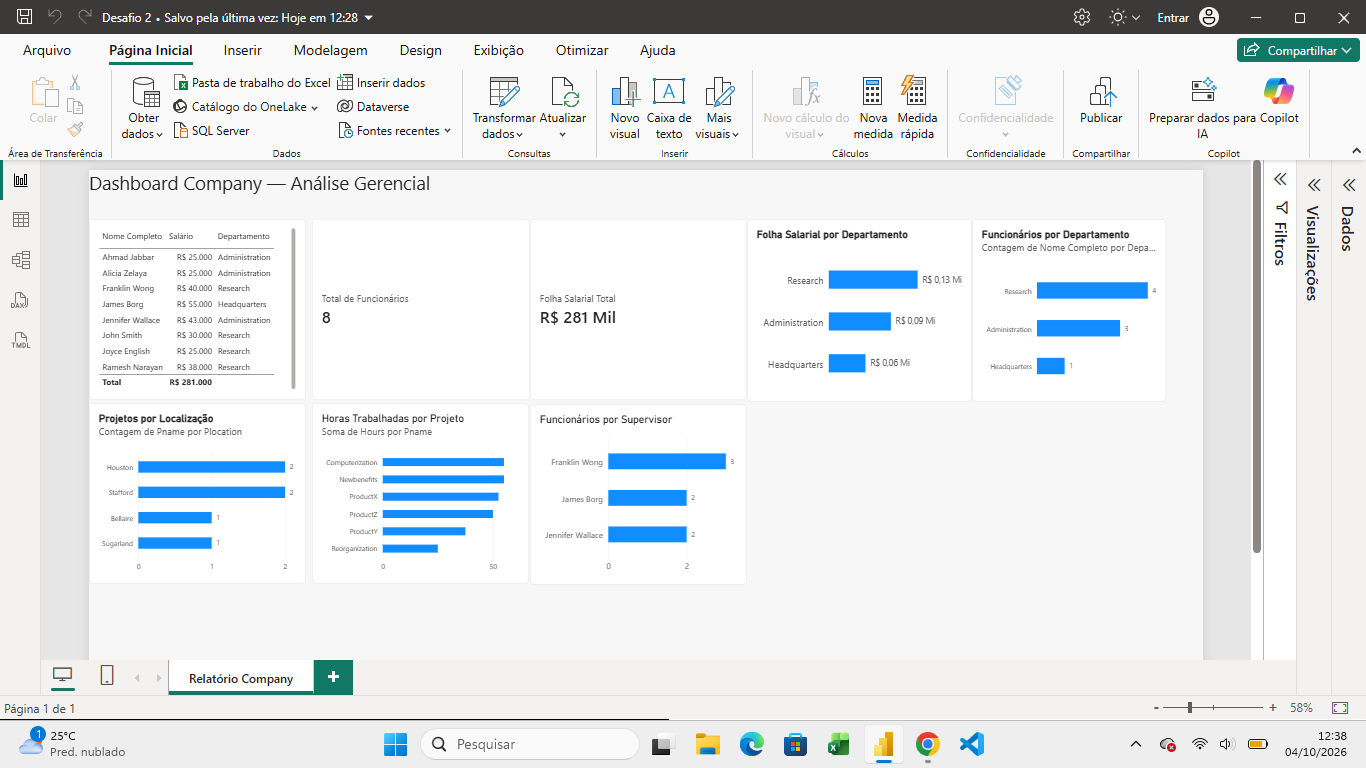

Layout of this report page (visuals, bound fields, positions):
{"tool":"powerbi","page":{"name":"Relatório Company","canvas":[1920,1080],"ordinal":0},"visuals":[{"type":"tableEx","fields":{"Values":["Employee.Nome Completo","Sum(Employee.Salary)","Employee.Department"]},"box":[0,85,374.5,311.7],"z":0},{"type":"cardVisual","fields":{"Data":["Sum(Employee.Salary)"]},"box":[760,85,374,312],"z":1},{"type":"cardVisual","fields":{"Data":["CountNonNull(Employee.Nome Completo)"]},"box":[385,85,375,312.5],"z":2},{"type":"clusteredBarChart","title":"Folha Salarial por Departamento","fields":{"Category":["Employee.Department"],"Y":["Sum(Employee.Salary)"]},"box":[1135,85,387.5,315],"z":3},{"type":"clusteredBarChart","title":"Funcionários por Departamento","fields":{"Category":["Employee.Department"],"Y":["CountNonNull(Employee.Nome Completo)"]},"box":[1522.5,85,335.1,315],"z":4},{"type":"clusteredBarChart","title":"Projetos por Localização","fields":{"Category":["Project.Plocation"],"Y":["CountNonNull(Project.Pname)"]},"box":[0,402.5,374,312],"z":5},{"type":"clusteredBarChart","title":"Horas Trabalhadas por Projeto","fields":{"Category":["Project.Pname"],"Y":["Sum(Works_On.Hours)"]},"box":[385,402.5,374,312],"z":6},{"type":"textbox","box":[0,0,722.5,50],"z":7},{"type":"clusteredBarChart","title":"Funcionários por Supervisor","fields":{"Category":["Employee.Supervisor"],"Y":["CountNonNull(Employee.Nome Completo)"]},"box":[760.5,402.6,373.7,311.8],"z":8}]}

Visuals, with their boxes on the page's 1920x1080 design canvas (x1, y1, x2, y2). These are canvas units, not pixel positions in the 1366x768 screenshot, which may show the page scaled, cropped or inside an application window:
tableEx - Employee.Nome Completo x Sum(Employee.Salary): locate(0, 85, 374, 397)
cardVisual - Sum(Employee.Salary): locate(760, 85, 1134, 397)
cardVisual - CountNonNull(Employee.Nome Completo): locate(385, 85, 760, 398)
"Folha Salarial por Departamento" clusteredBarChart: locate(1135, 85, 1522, 400)
"Funcionários por Departamento" clusteredBarChart: locate(1522, 85, 1858, 400)
"Projetos por Localização" clusteredBarChart: locate(0, 402, 374, 714)
"Horas Trabalhadas por Projeto" clusteredBarChart: locate(385, 402, 759, 714)
textbox: locate(0, 0, 722, 50)
"Funcionários por Supervisor" clusteredBarChart: locate(760, 403, 1134, 714)
